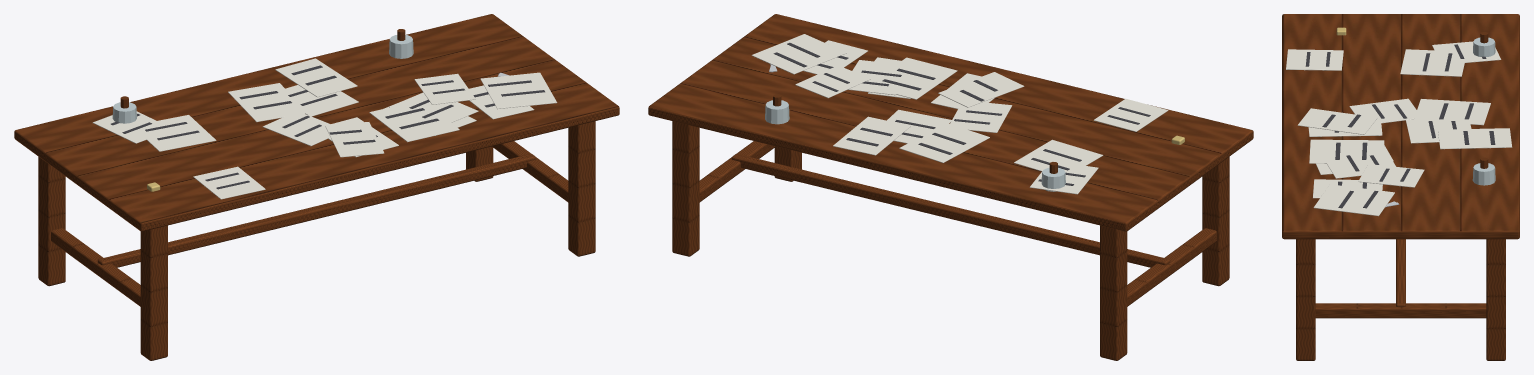
Rendered from printing-press-and-newspaper-office-subs-table-84402283__37761.glb.
3 views of the same model, side by side, from view 1: azimuth 30°, elevation 25°; view 2: azimuth 150°, elevation 25°; view 3: azimuth 270°, elevation 25° (orthographic). The views are drawn at different scales.
Visible parts, largest first — view 1: subs-table; view 2: subs-table; view 3: subs-table.
Part boxes in pixels (left/top/right/bottom): subs-table: left=14, top=14, right=619, bottom=360; subs-table: left=648, top=14, right=1253, bottom=360; subs-table: left=1282, top=14, right=1519, bottom=360.
Size of the model in its own units: 2.6 by 0.89 by 1.2.
6 materials, 1 textured.
